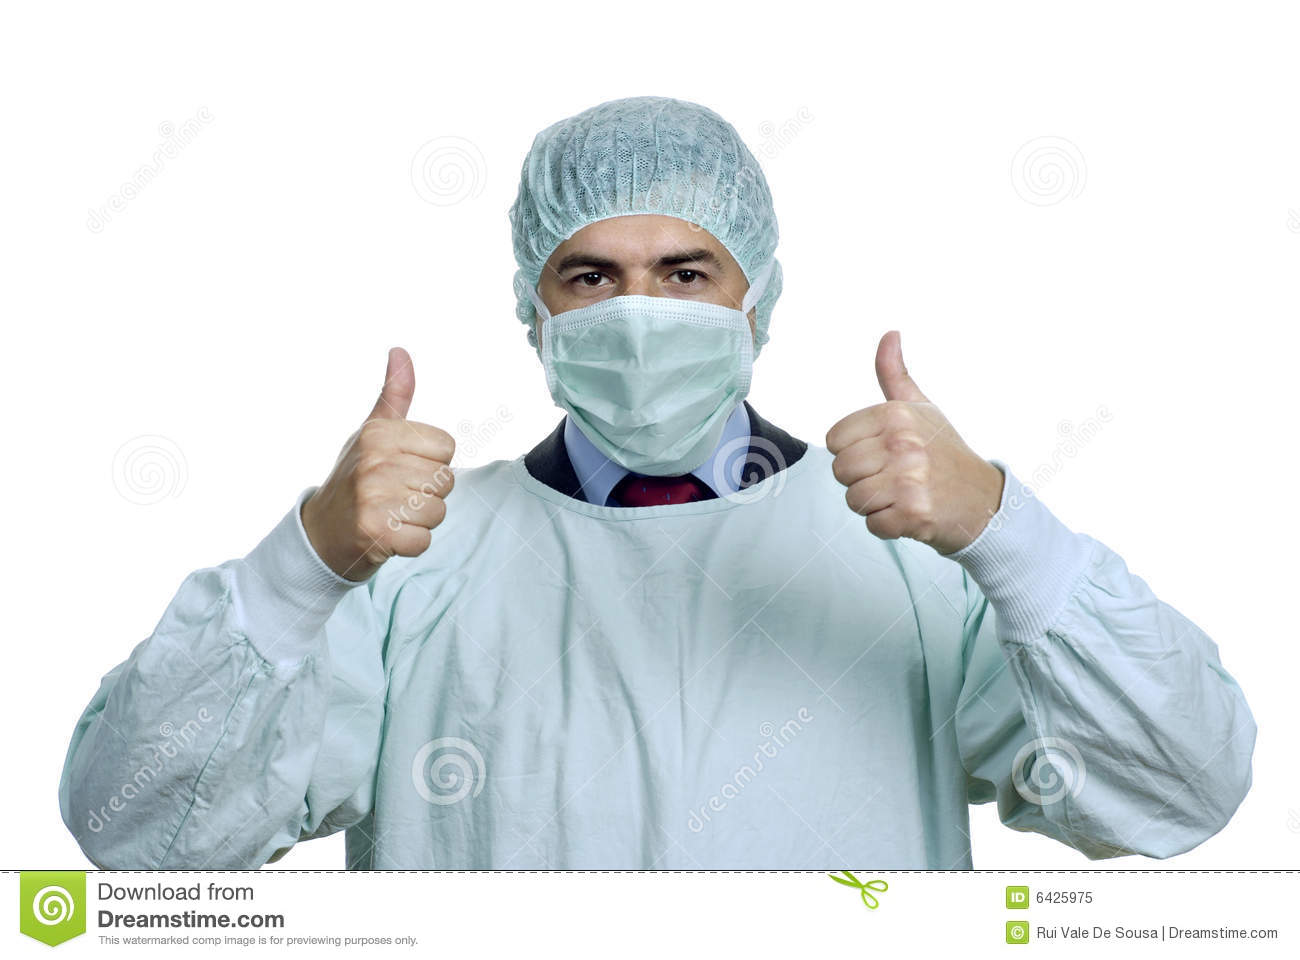mask: (535, 299, 758, 471)
